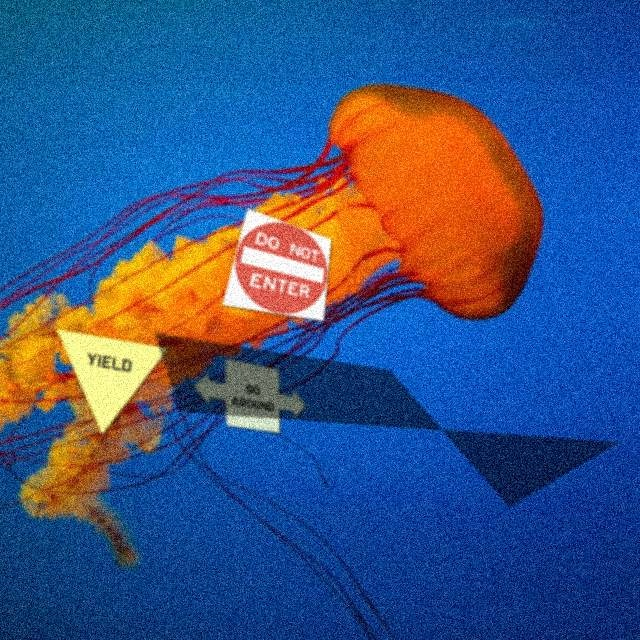DO_NOT_ENTER: (221, 207, 332, 322)
GO_AROUND: (192, 357, 307, 434)
YIELD: (55, 328, 170, 436)
